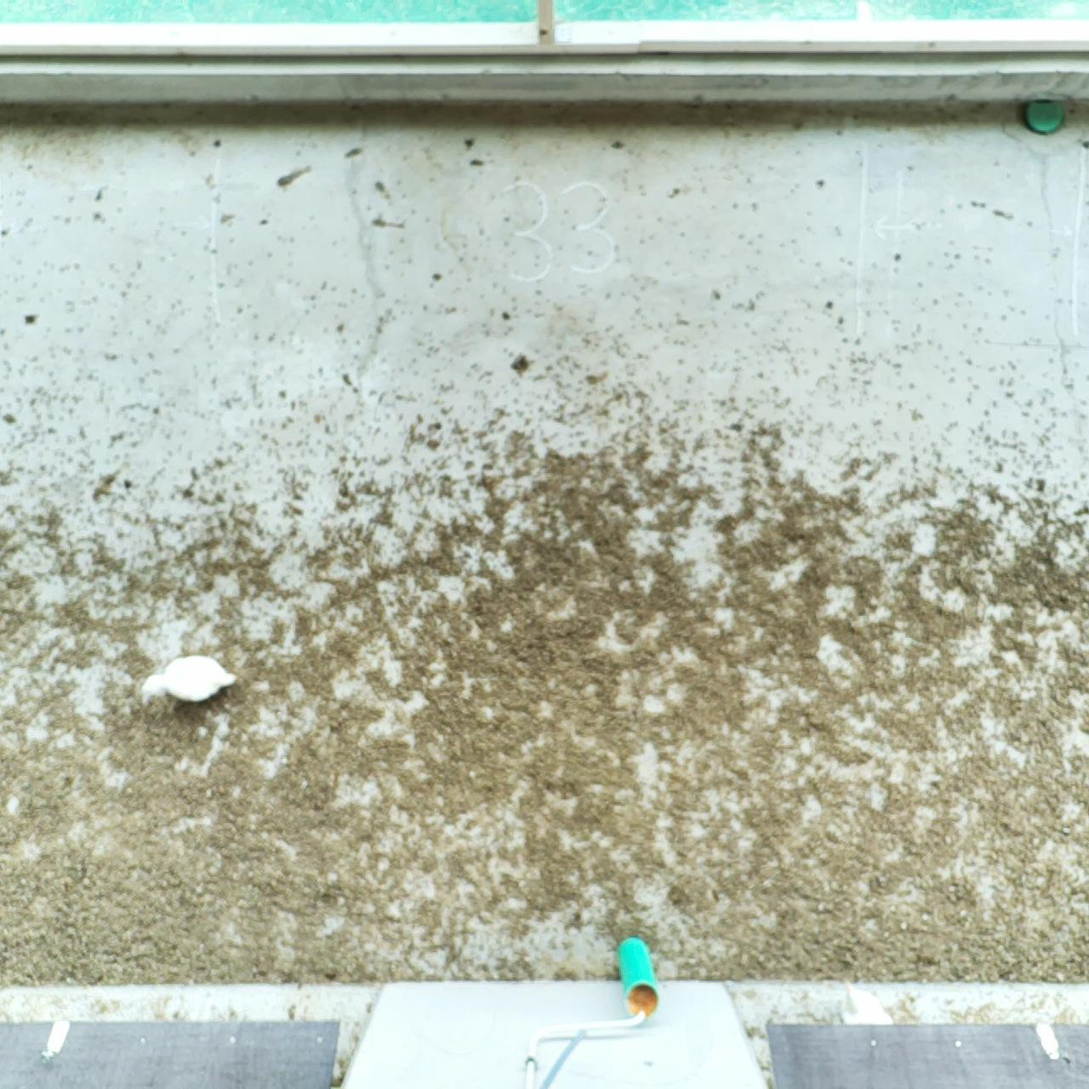chicken: (137, 648, 241, 711)
